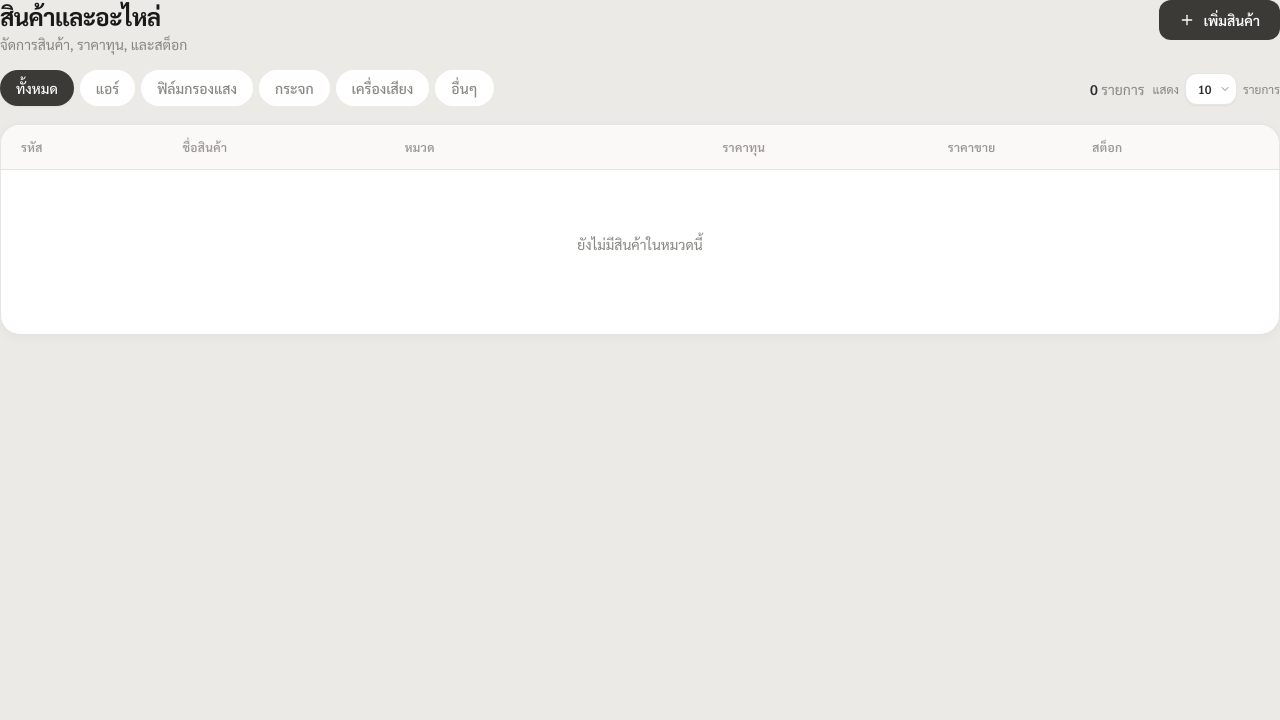
it: ProductsPage › opens create modal when เพิ่มสินค้า is clicked
The width and height of the screenshot is (1280, 720).
Click the button "เพิ่มสินค้า".
click(1220, 20)  # box [1160,0,1279,40]
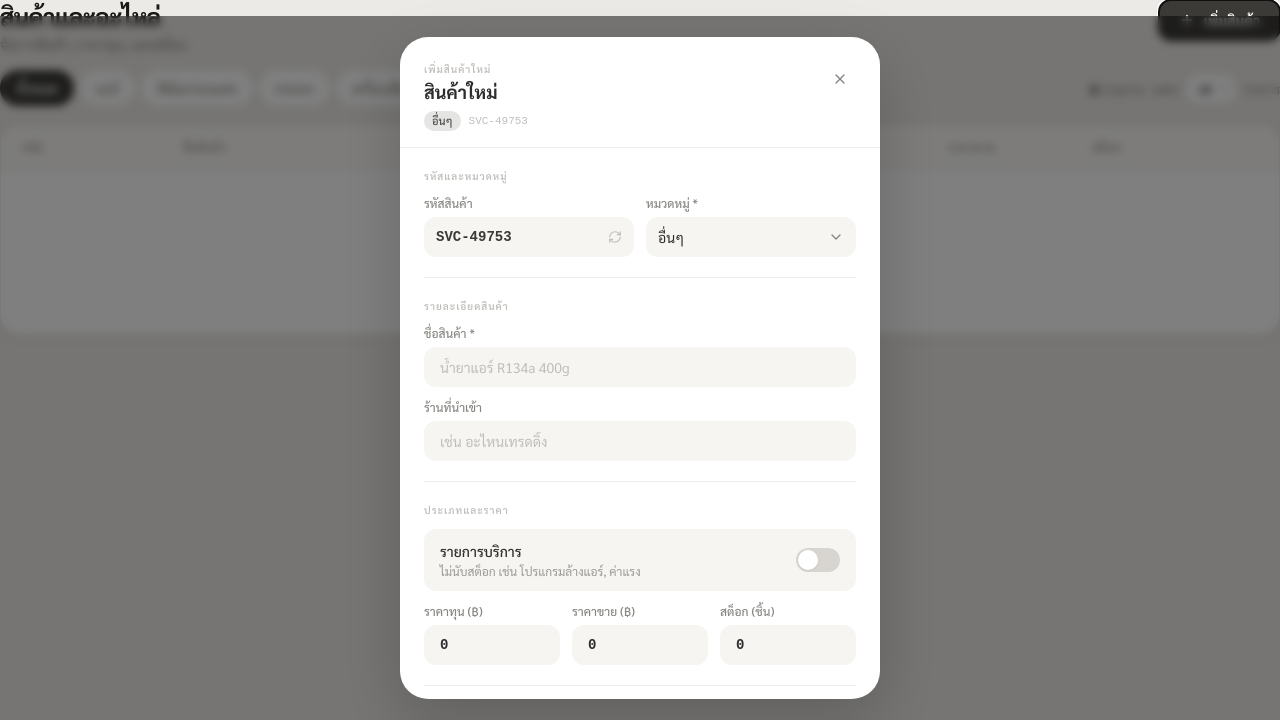
Check: the text "เพิ่มสินค้าใหม่" is shown, box [424,62,491,75]
